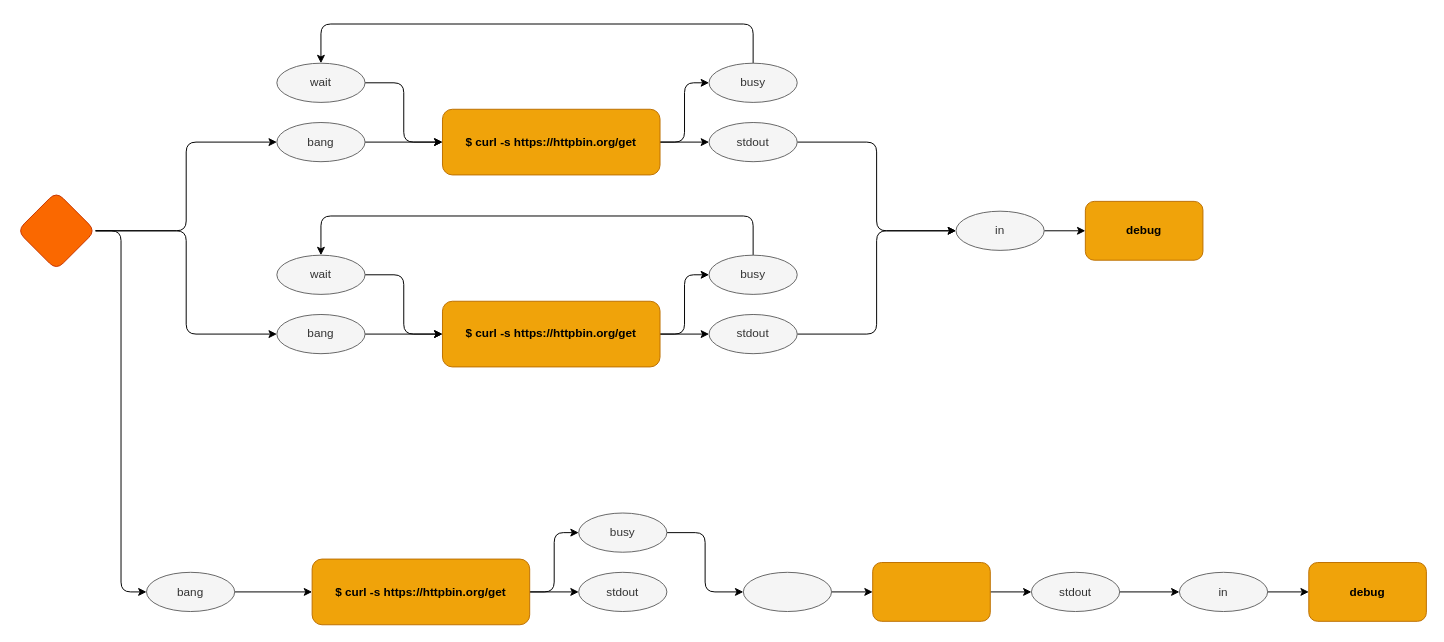
Some shapes in this 1444 by 642 pixel diagram are drawn without their labels. Here are the shapes that lost their labels. From the top down, the box of each, then its label:
(16, 191, 96, 270): stdin
(742, 571, 832, 612): handle
(872, 562, 990, 621): join
